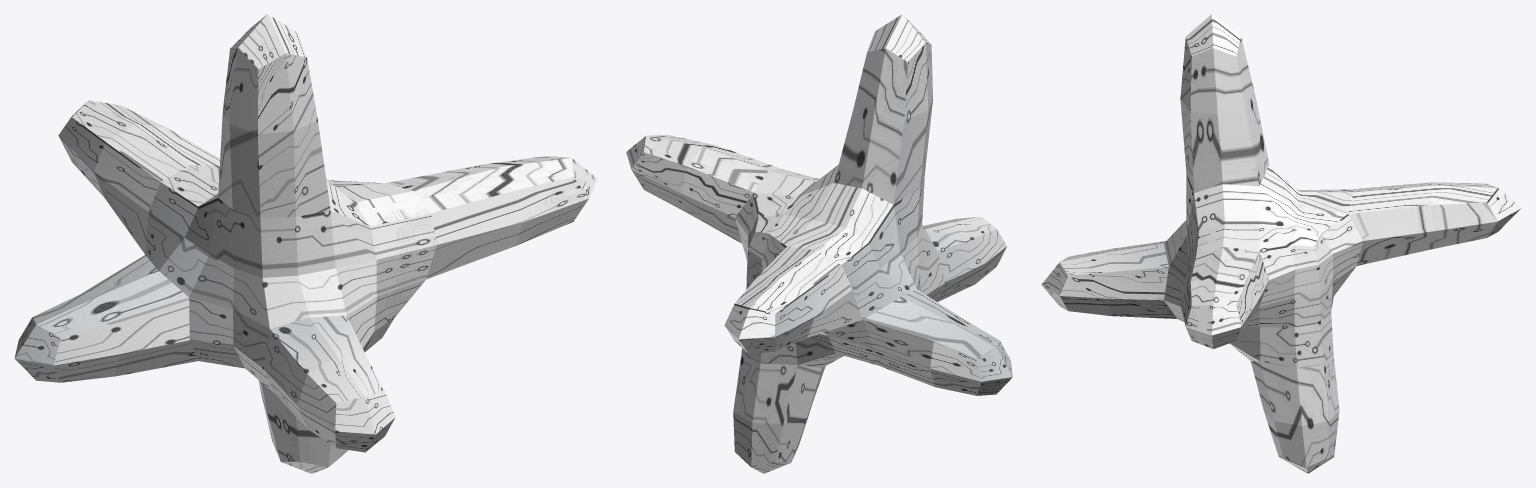
The model's file is Debris.fbx.
The picture shows the model from 3 angles, left to right: view 1: azimuth 30°, elevation 25°; view 2: azimuth 150°, elevation 25°; view 3: azimuth 270°, elevation 25°; orthographic projection. The views are drawn at different scales.
Parts seen in each view (by area): view 1: Debris; view 2: Debris; view 3: Debris.
Part boxes in pixels (x1,y1,x2,y2): Debris: [14, 14, 597, 473]; Debris: [626, 14, 1012, 473]; Debris: [1041, 14, 1521, 473].
Size of the model in its own units: 434 by 421 by 437.
